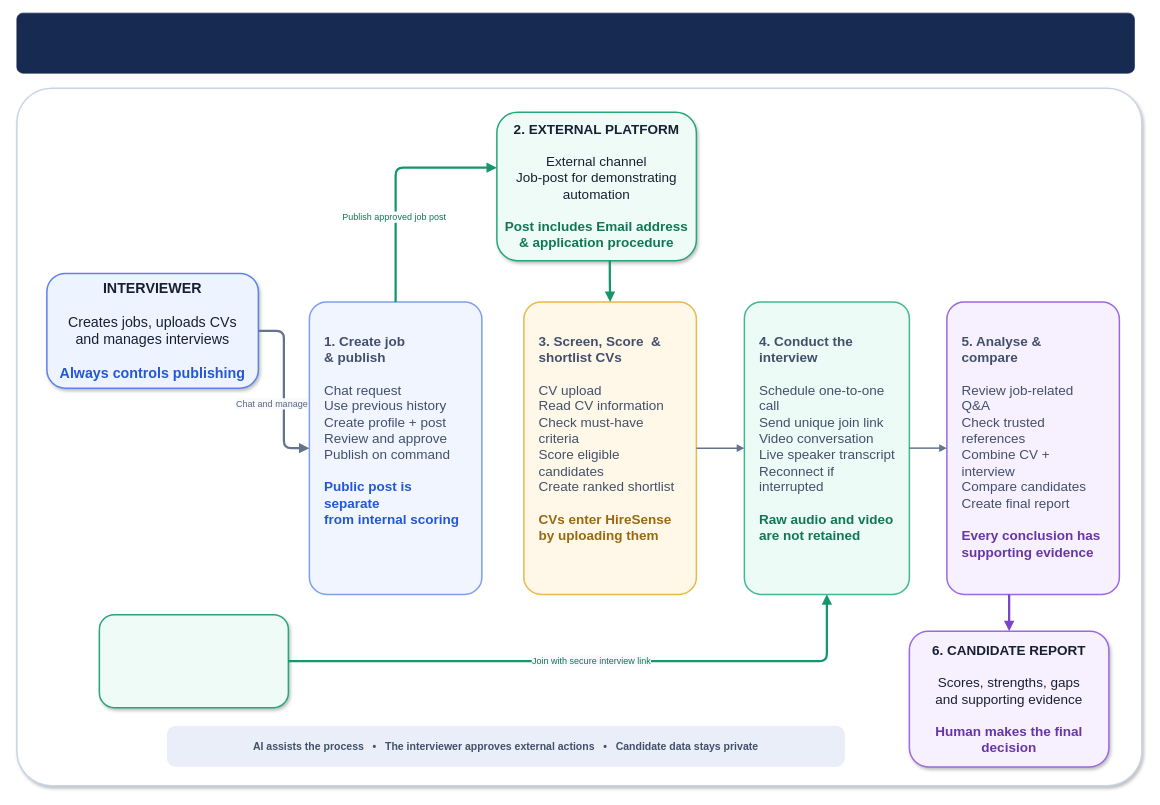
Some shapes in this 1160 by 805 pixel diagram are drawn without their labels. The shapes that lost their labels are listed below. From the top down, each one's centre as x and y in pixels, then its label:
At (x=575, y=42): "HireSense AI Recruitment Platform".
At (x=194, y=661): "CANDIDATE Joins through a unique link and attends the interview".
